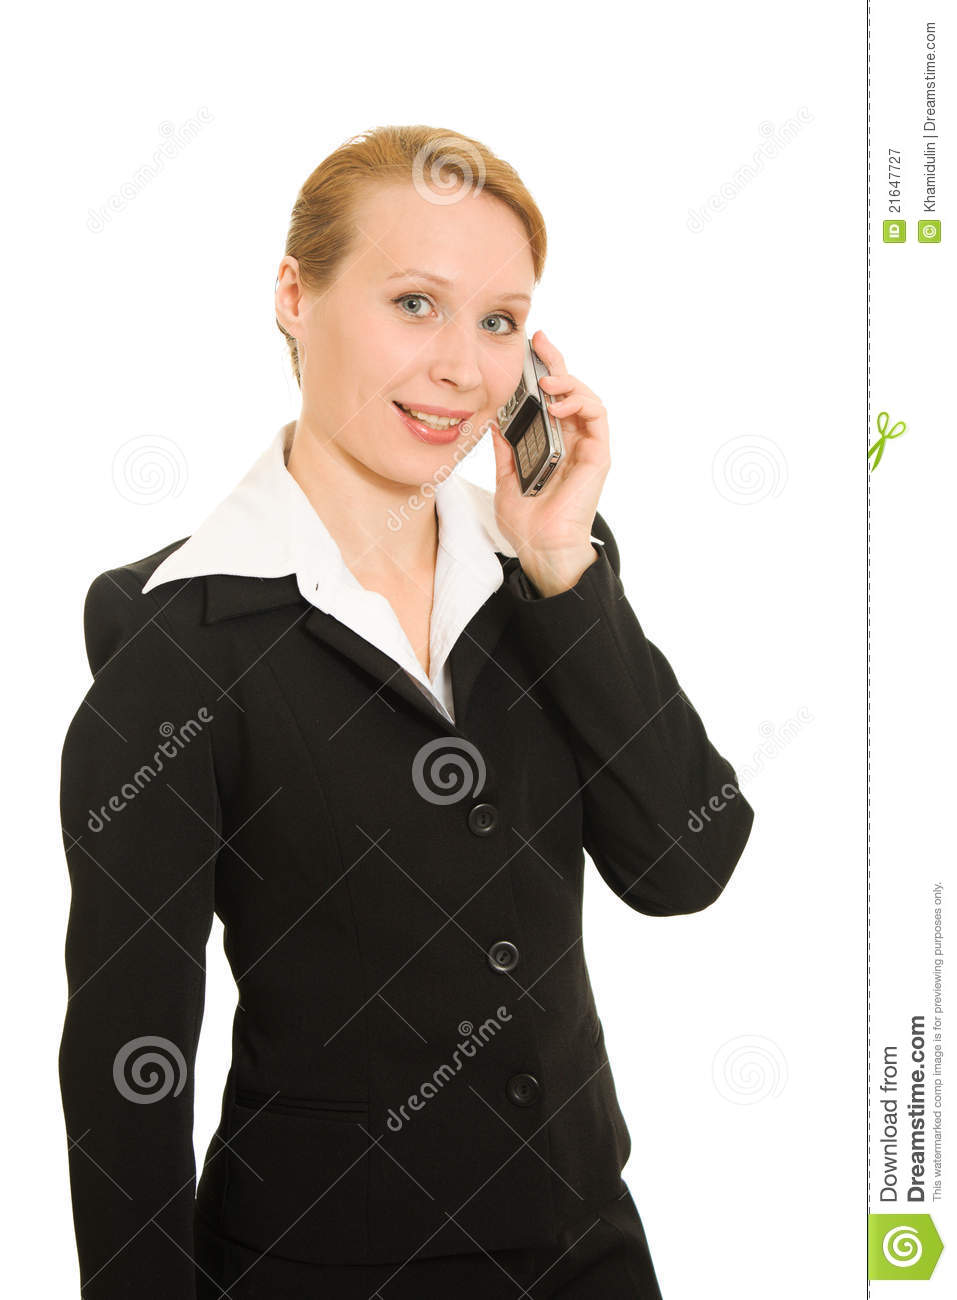phone: (502, 346, 564, 498)
talk: (368, 263, 613, 595)
